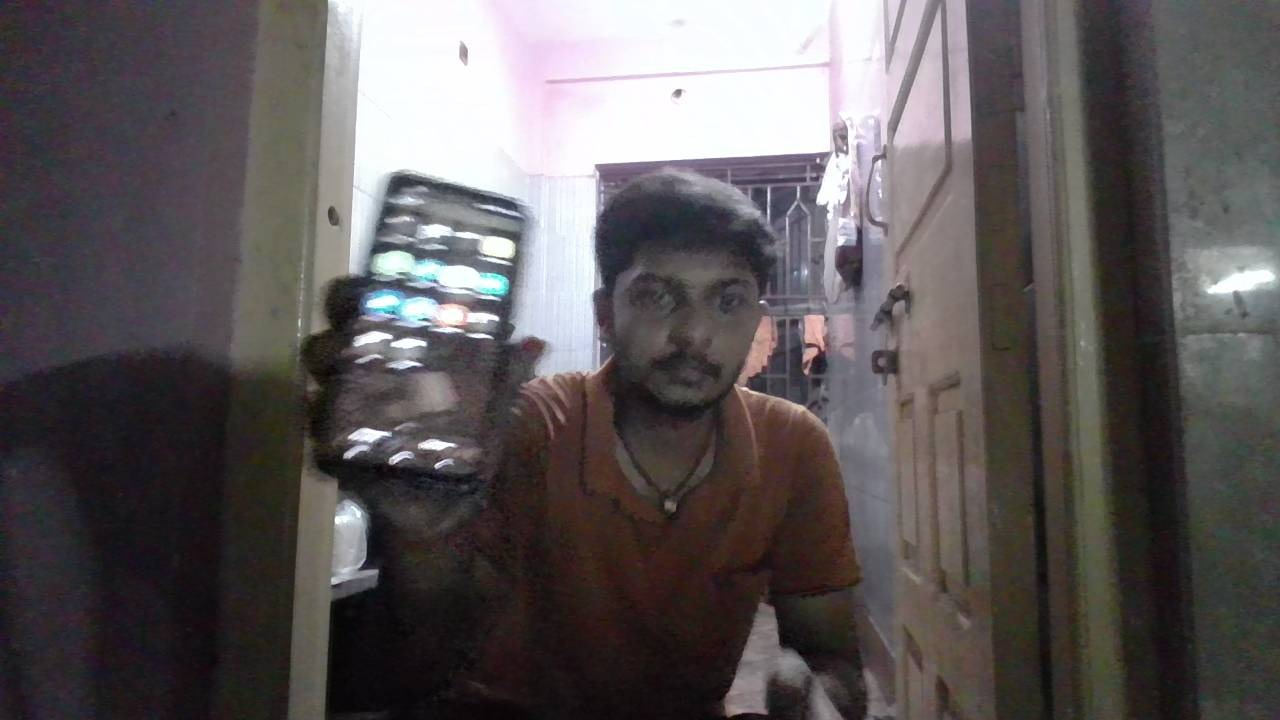red_box: (688, 408, 854, 585), (525, 419, 611, 539), (586, 450, 657, 522)
